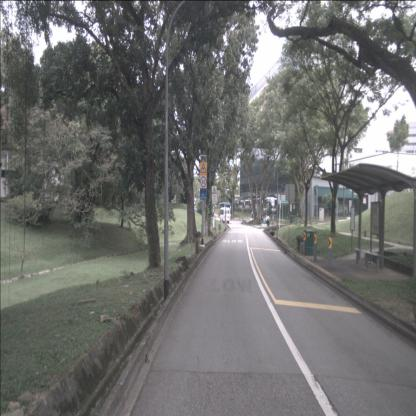human-pedestrian-adult: (271, 214, 274, 226), (267, 214, 270, 226), (265, 215, 268, 226), (263, 217, 266, 226)
vehicle-car: (219, 207, 230, 223)
